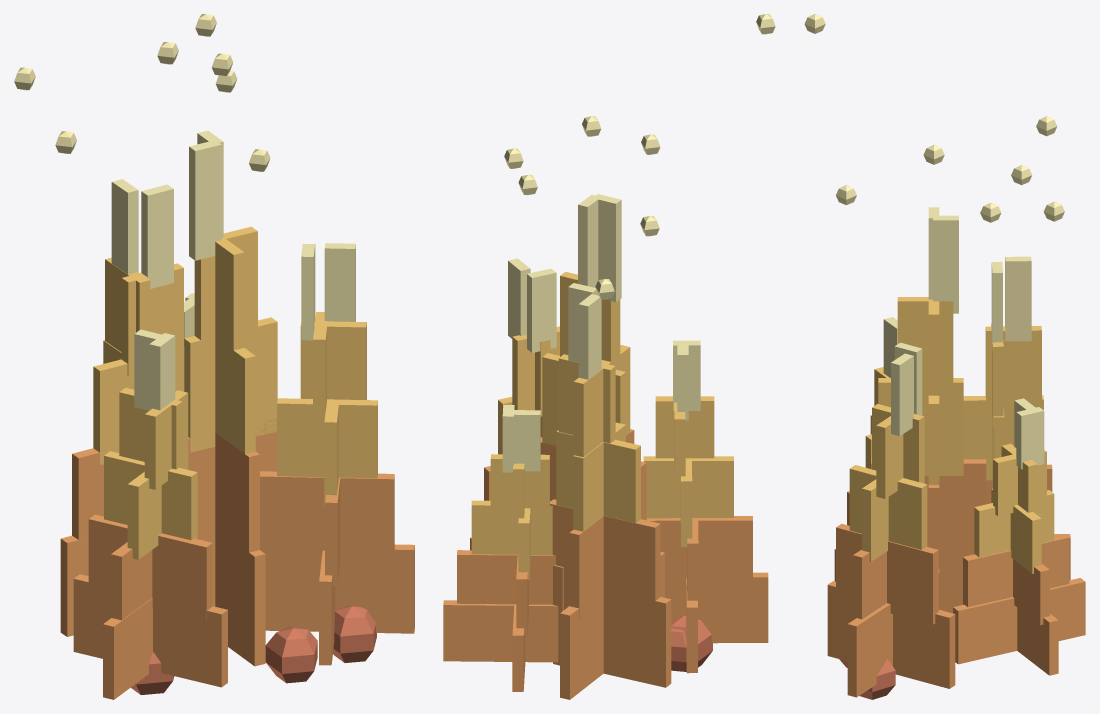
The model's file is ws_fx_gate_fire.glb.
3 views of the same model, side by side, from view 1: azimuth 30°, elevation 25°; view 2: azimuth 150°, elevation 25°; view 3: azimuth 270°, elevation 25° (orthographic). The views are drawn at different scales.
Parts seen in each view (by area): view 1: ws_fx_gate_fire; view 2: ws_fx_gate_fire; view 3: ws_fx_gate_fire.
Boxes of the visible parts, bbox=[...] form: ws_fx_gate_fire: bbox=[14, 14, 414, 699]; ws_fx_gate_fire: bbox=[443, 14, 775, 699]; ws_fx_gate_fire: bbox=[804, 14, 1085, 699].
Bounding box in the file's own units: 0.7029 × 1.54 × 0.6591.
